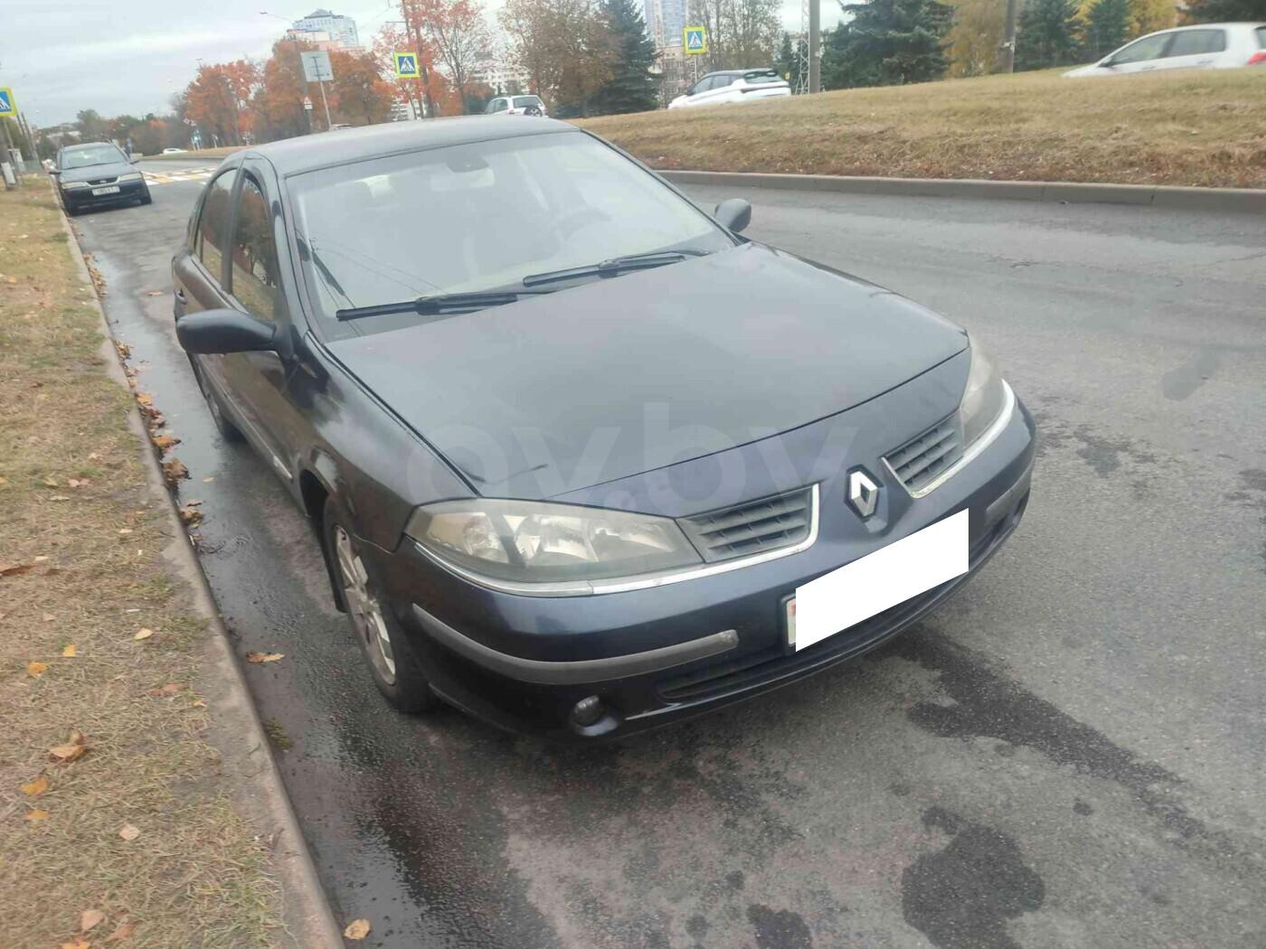Laguna_2005-2007: (167, 116, 1041, 749)
